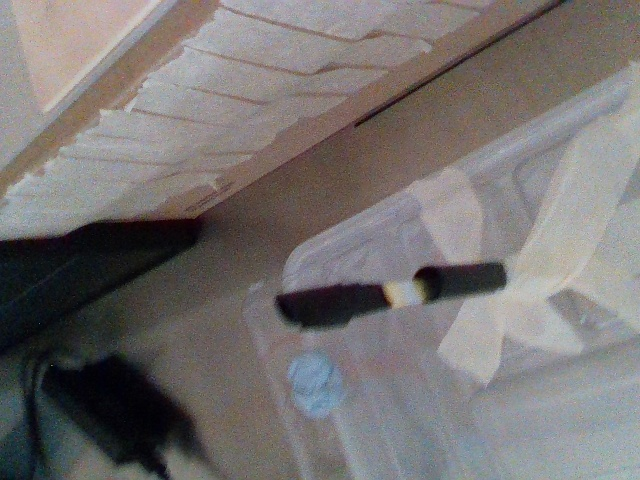test_strip: (274, 279, 424, 331)
